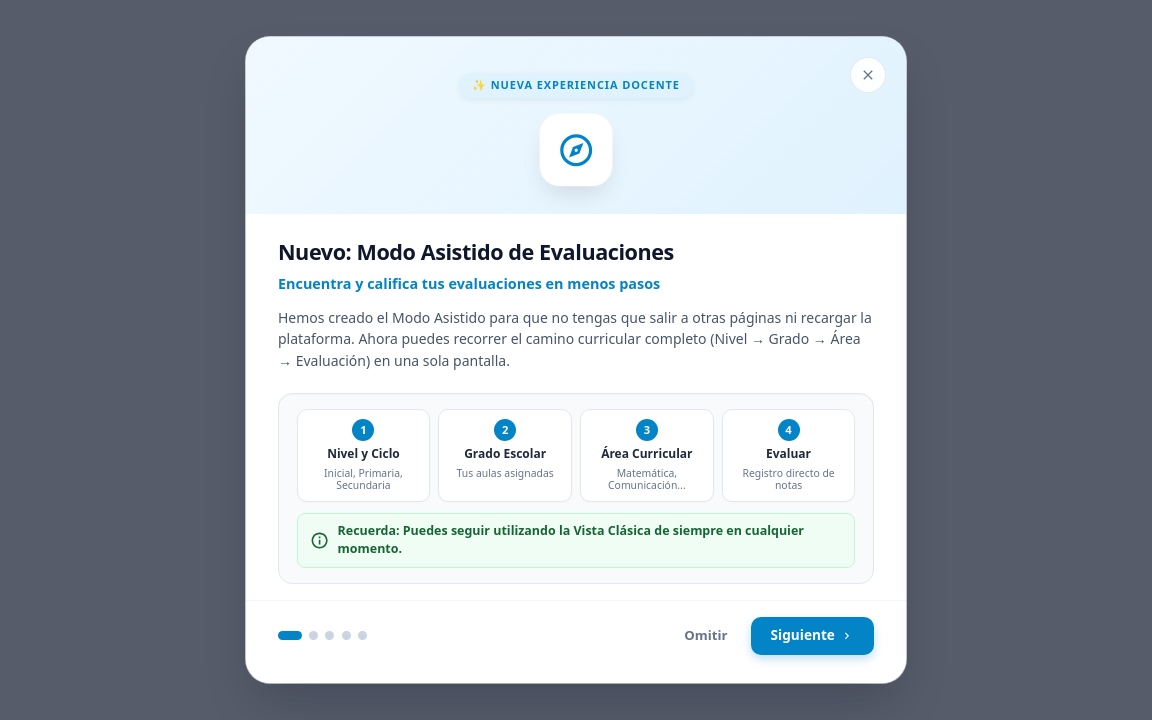
Scenario: DocentesAsistidoOnboardingModal › permite retroceder con el botón Anterior
Click the button "Siguiente".
click(812, 636)  # box [751,616,874,654]
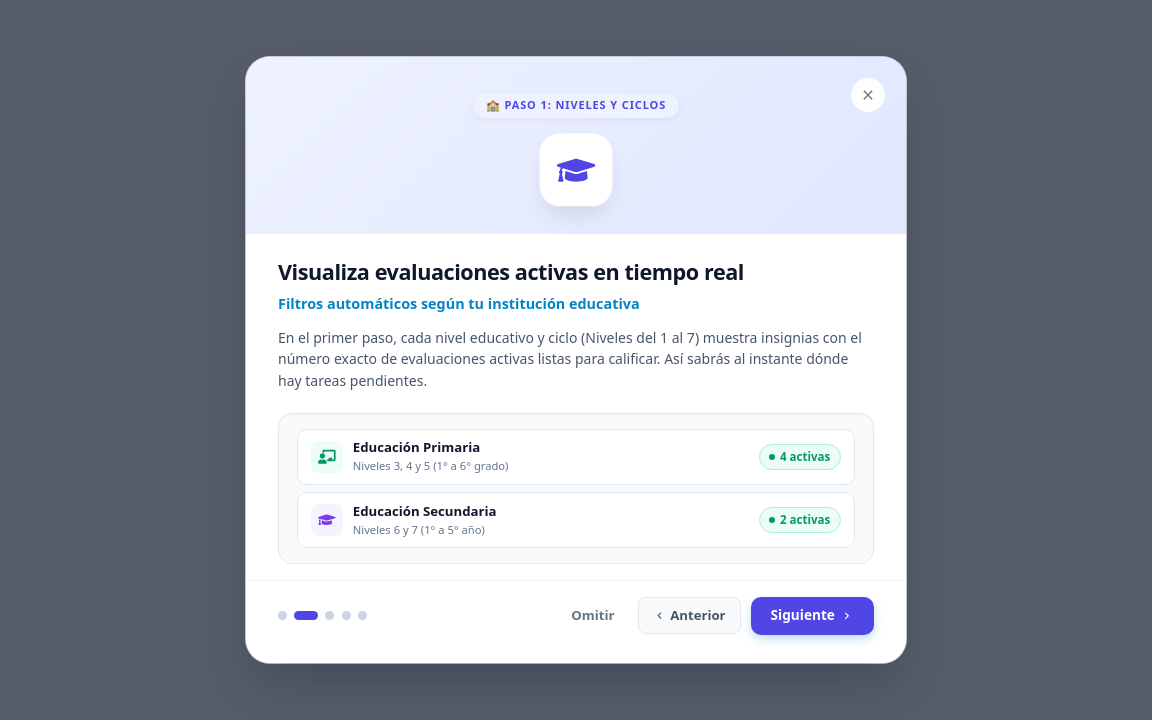
Expected: the heading "Visualiza evaluaciones activas en tiempo real" is shown, [278,257,744,286]
Click the button "Anterior".
click(689, 616)  # box [638,597,741,634]
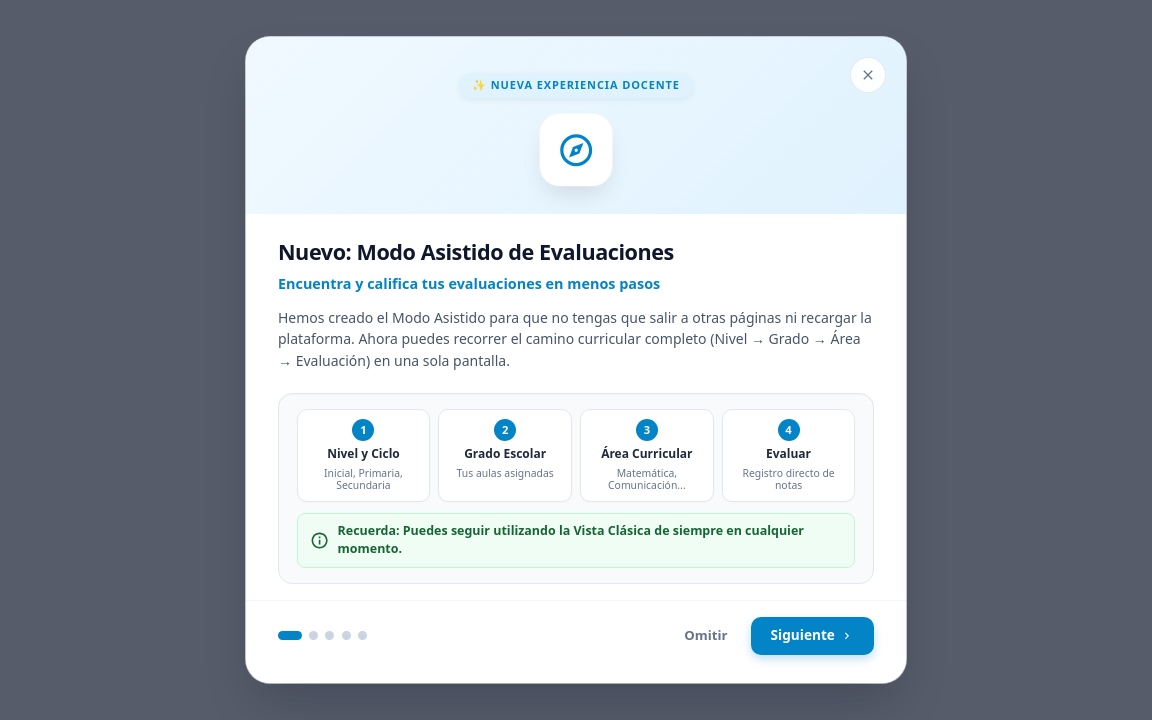
Expected: the heading "Nuevo: Modo Asistido de Evaluaciones" is shown, [278,237,674,266]
